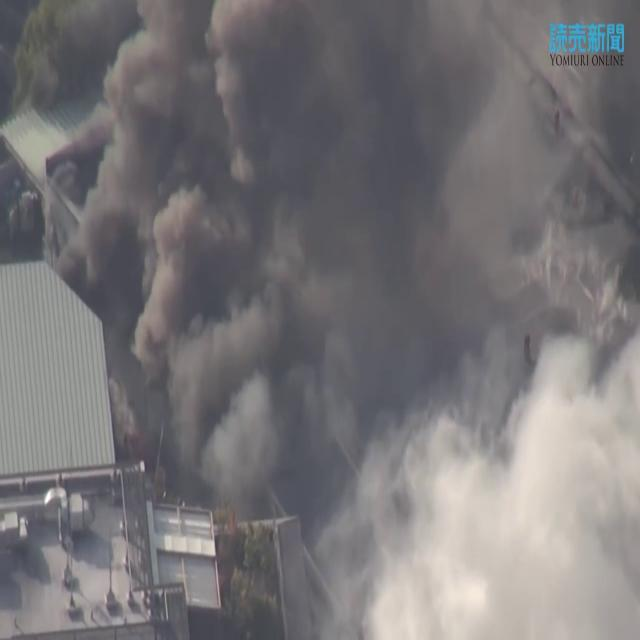Smoke: (69, 0, 632, 635)
